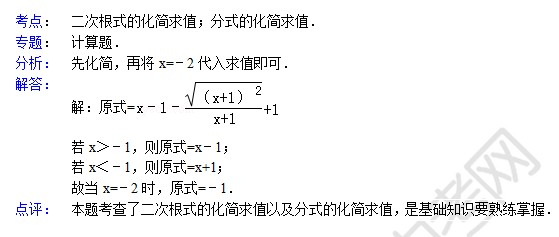division: (184, 105, 264, 113)
sqrt: (182, 79, 263, 109)
square: (253, 83, 261, 97)
